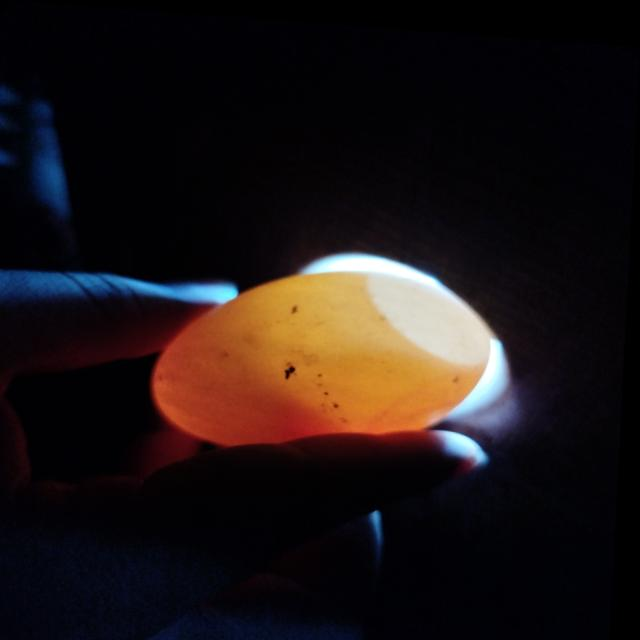Camara de Ar: (371, 266, 494, 358)
